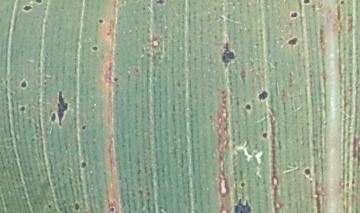tarspot: (219, 36, 235, 69), (56, 89, 69, 127), (232, 197, 252, 213), (256, 88, 269, 103), (286, 37, 299, 47), (20, 4, 33, 13), (289, 10, 299, 21), (19, 78, 28, 90), (303, 167, 312, 176), (80, 159, 88, 169), (49, 112, 56, 123), (244, 103, 252, 112), (96, 17, 105, 25), (18, 104, 26, 113), (73, 202, 81, 211), (191, 55, 199, 64), (261, 131, 268, 140), (90, 45, 99, 52), (112, 76, 121, 83), (145, 50, 152, 59), (108, 206, 116, 213), (154, 1, 165, 6), (63, 204, 69, 213), (239, 181, 246, 188), (80, 124, 87, 131), (207, 113, 214, 120), (132, 67, 140, 73), (33, 1, 42, 5), (46, 203, 52, 209), (302, 1, 310, 5), (57, 206, 62, 212), (339, 1, 345, 5)
